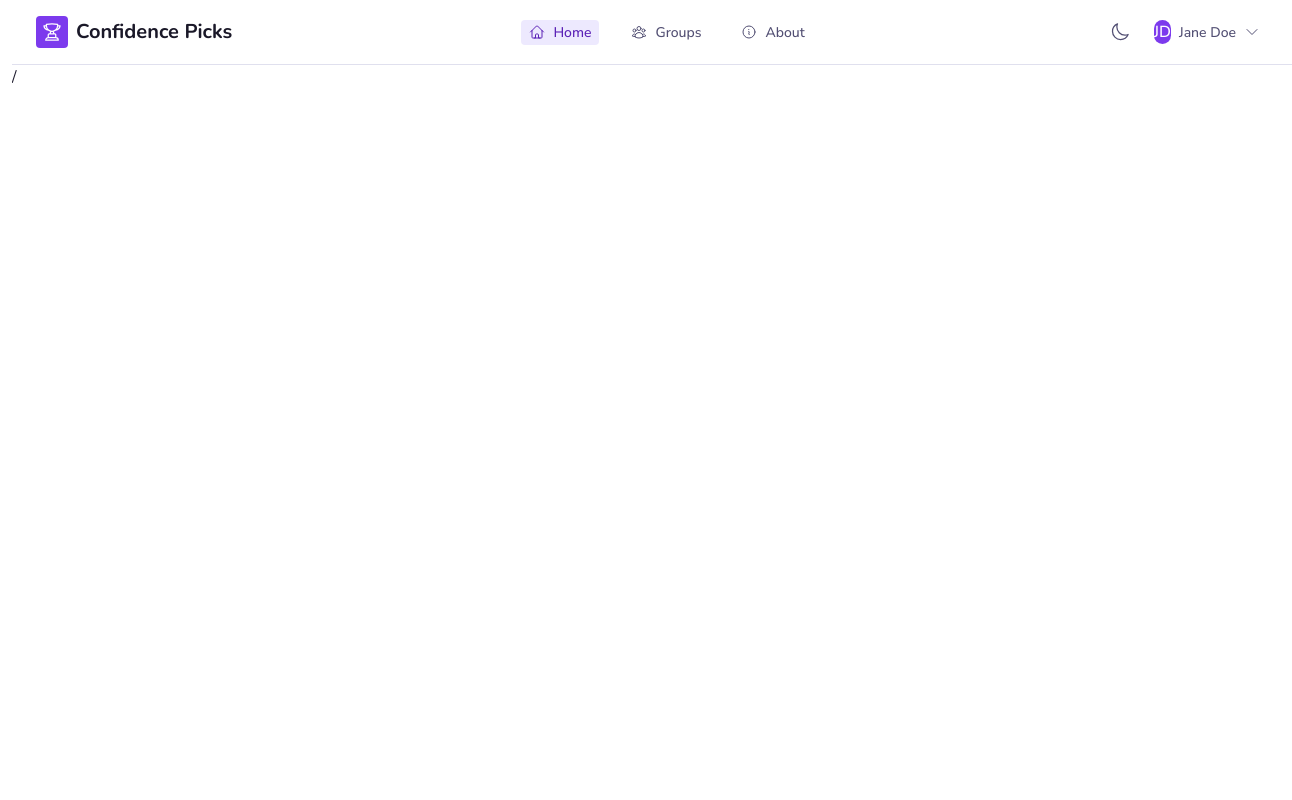
Test case: Navigation › user menu › closes when clicking outside
Click the button with aria-label "User menu" at (1207, 32), box [1146,12,1268,52]
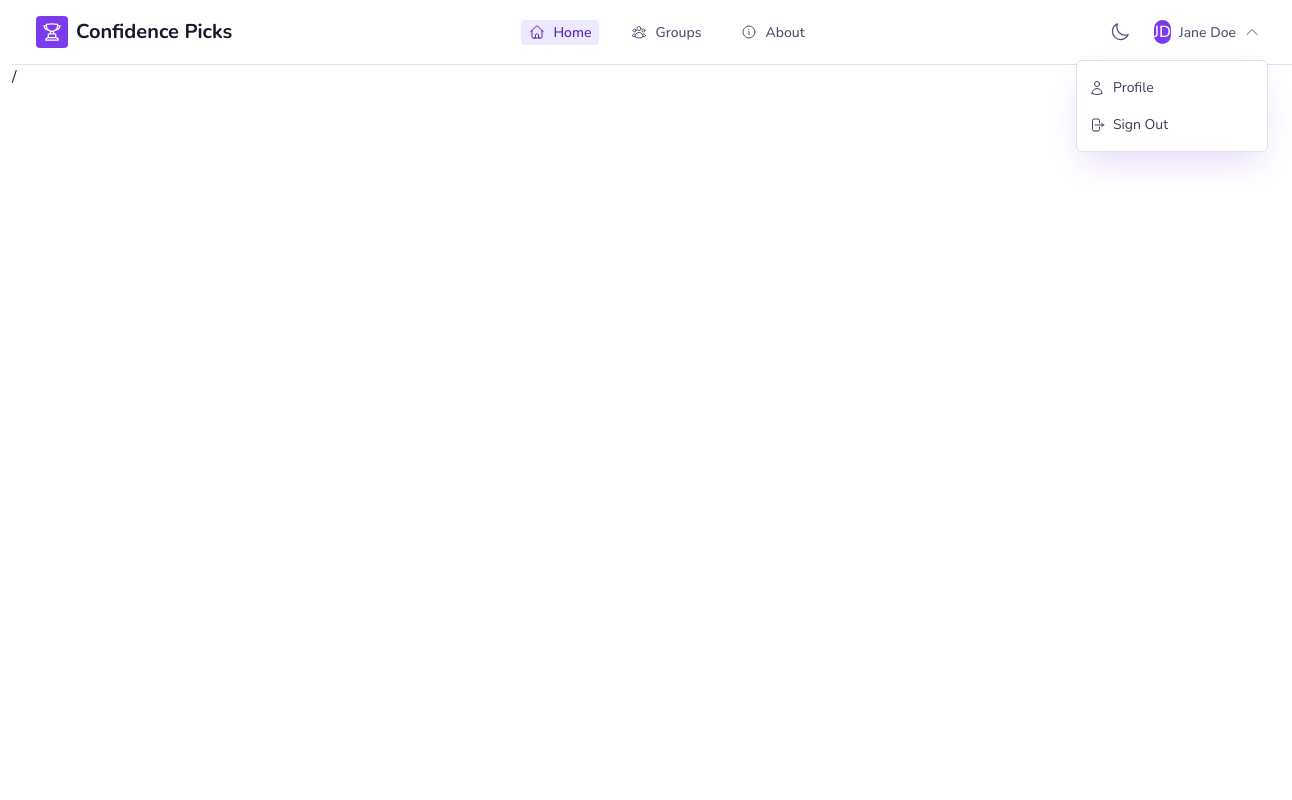
Expected: the menu is shown, [1076,60,1268,152]
Press the mouse on the element that starts with "Confidence Picks" at (652, 400), box [12,0,1291,799]
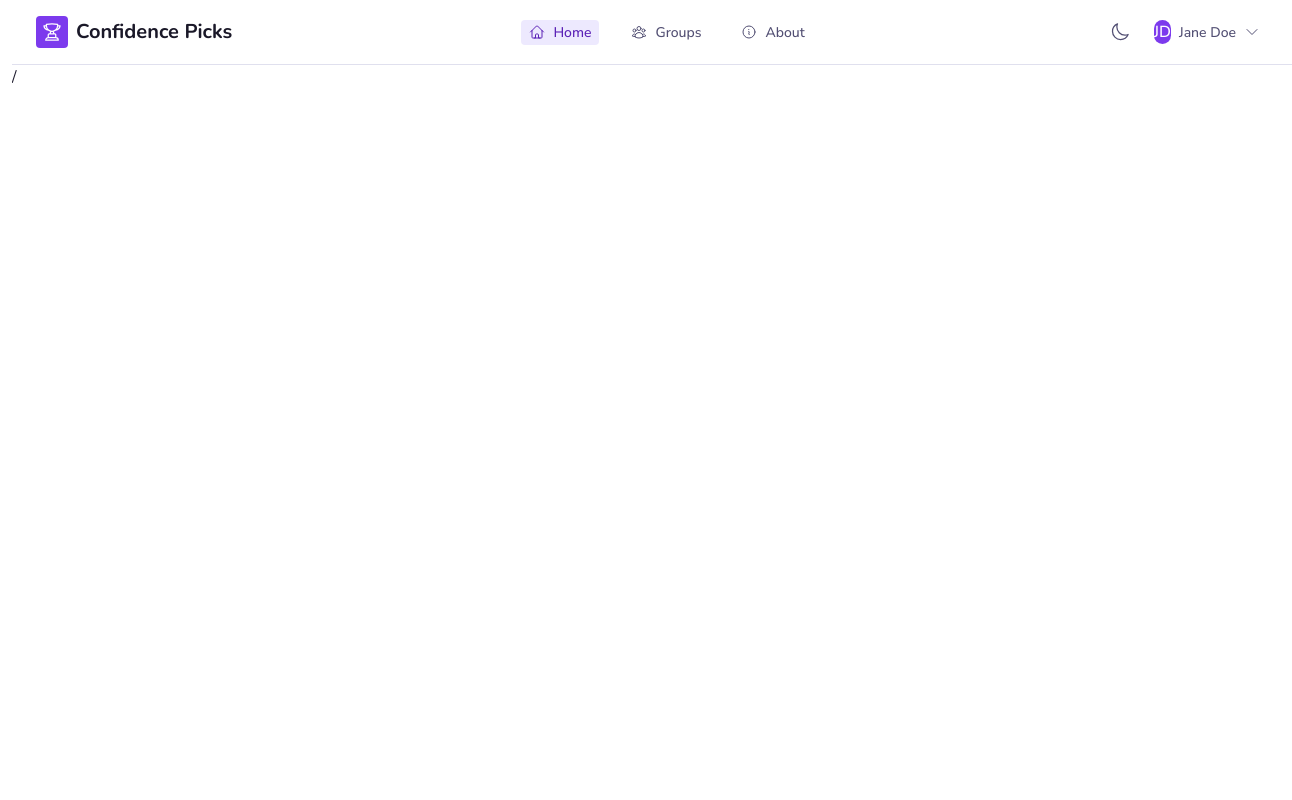
Expected: the menu is gone
